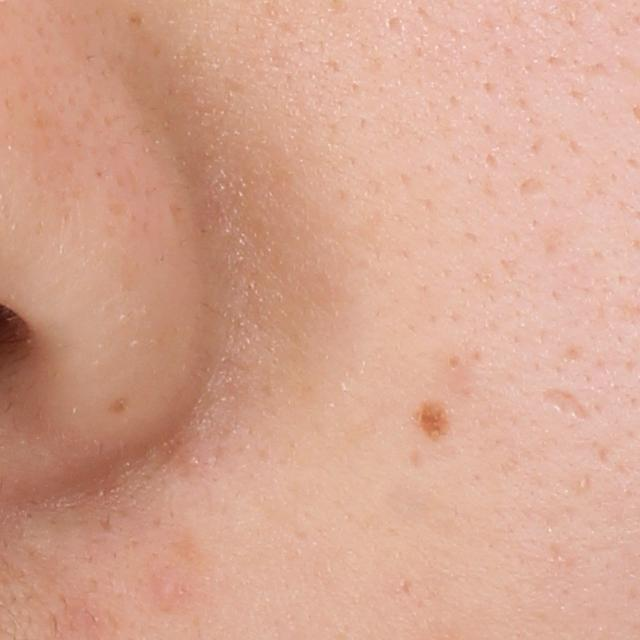atrophic_scar: (539, 388, 590, 424)
comedo: (437, 348, 468, 374)
nevus: (416, 399, 454, 443)
